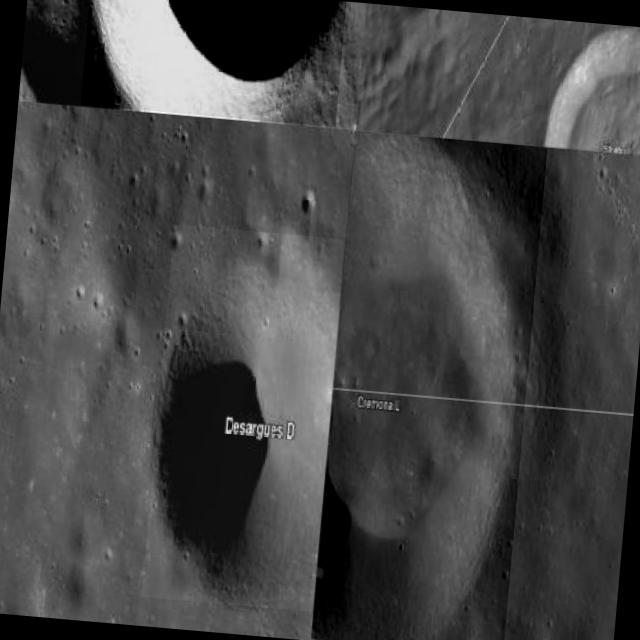crater: (310, 130, 547, 640), (141, 224, 344, 611), (79, 0, 346, 126), (544, 19, 640, 154)
